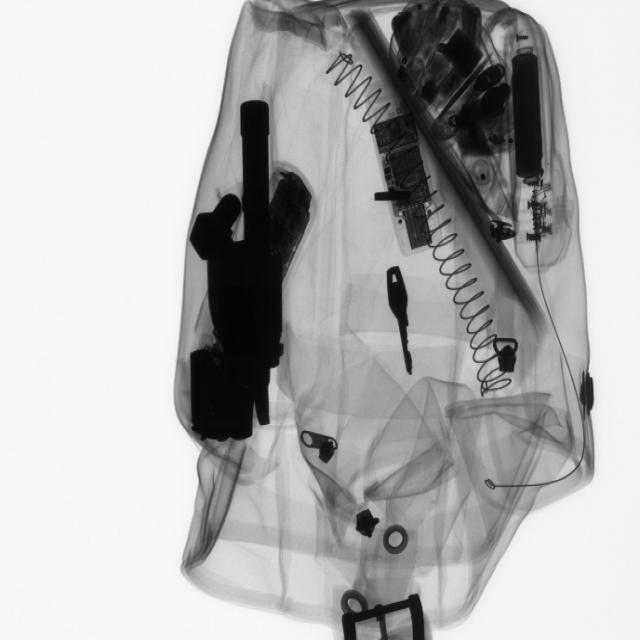GUN: (188, 81, 293, 452)
